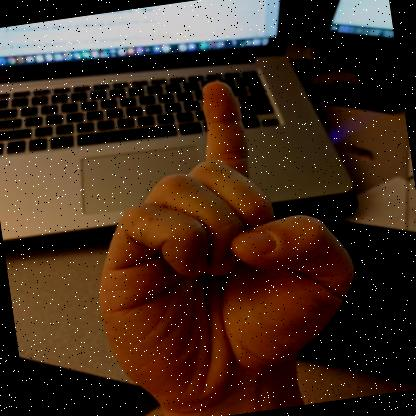D: (99, 80, 354, 416)
